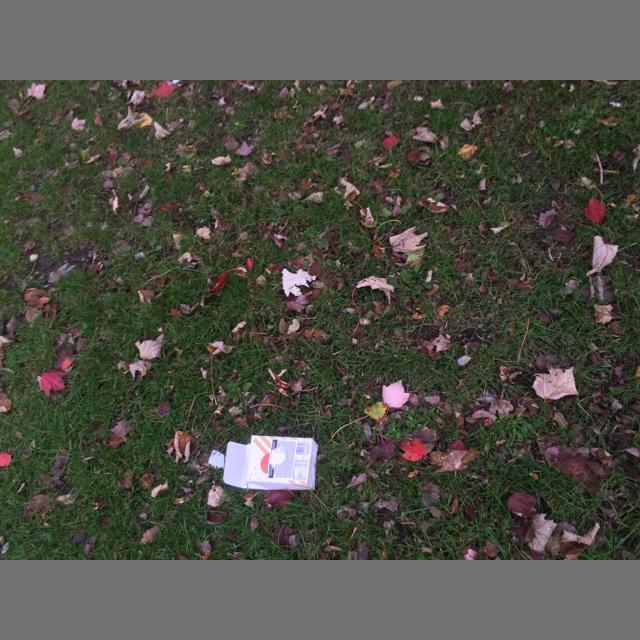litter: (221, 435, 318, 490), (208, 450, 226, 470)
